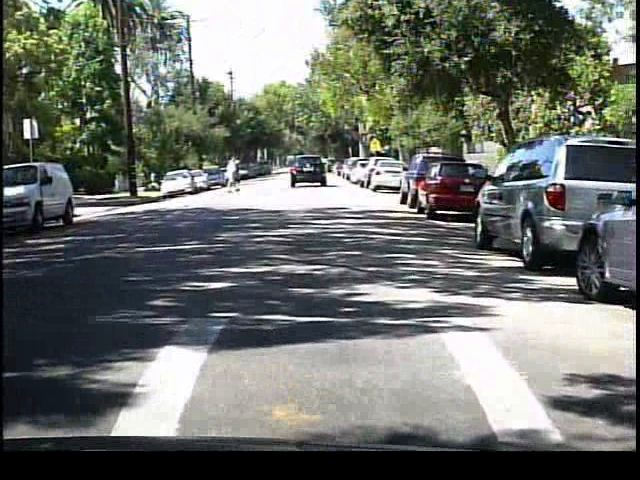person: (221, 152, 243, 194)
